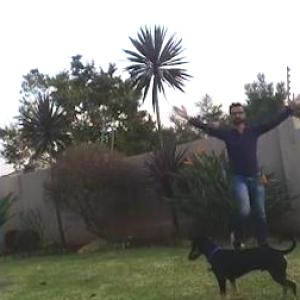takeoff: (162, 95, 292, 245)
